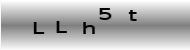5: (98, 7, 112, 20)
L: (55, 19, 68, 34), (32, 21, 45, 35)
h: (81, 20, 96, 35)
t: (127, 8, 139, 22)
